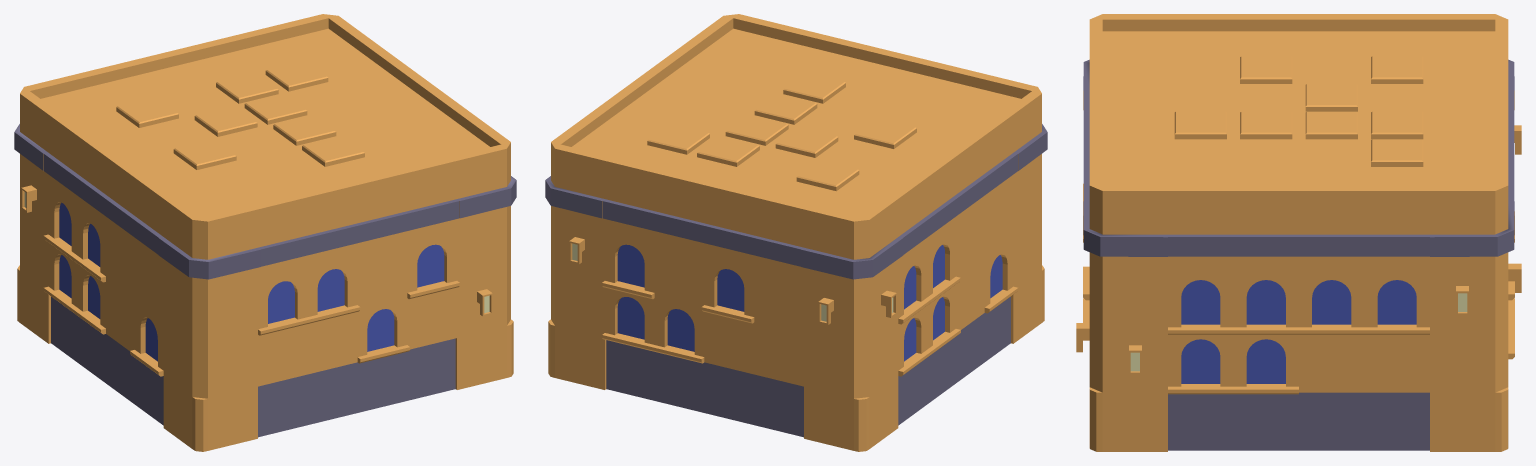
The model's file is house.003 (1).fbx.
The picture shows the model from 3 angles, left to right: view 1: azimuth 30°, elevation 25°; view 2: azimuth 150°, elevation 25°; view 3: azimuth 270°, elevation 25°; orthographic projection. The views are drawn at different scales.
Visible parts, largest first — view 1: House.001; view 2: House.001; view 3: House.001.
Boxes of the visible parts, box(x1,y1,x2,y2) form: House.001: box(14, 14, 516, 451); House.001: box(545, 14, 1047, 451); House.001: box(1076, 14, 1521, 451).
Bounding box in the file's own units: 680 × 440 × 680.
